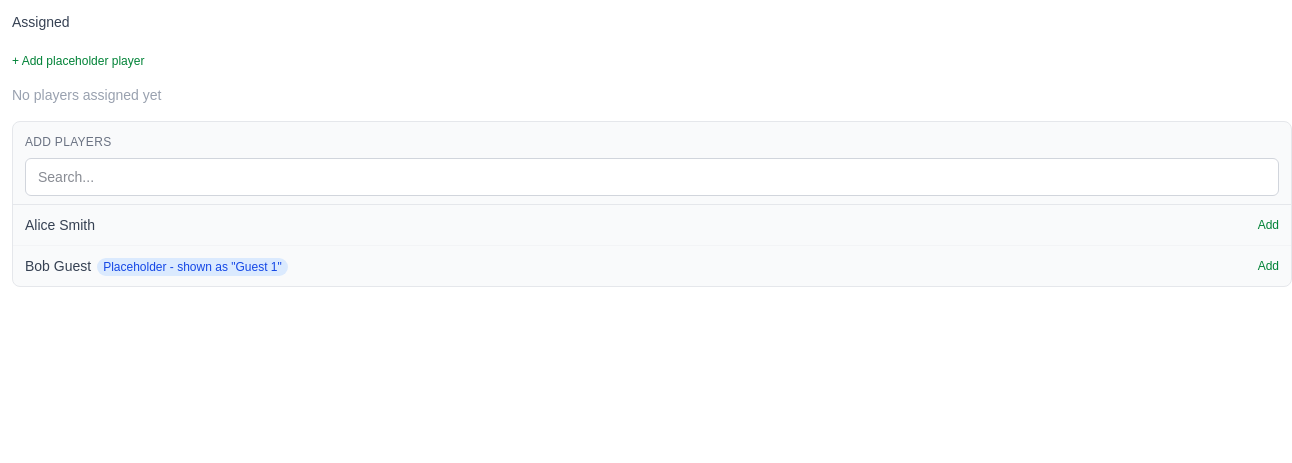
AssignPlayersPanel placeholders › pre-fills the alias with the next available numbered placeholder name
Expected: the text "Alice Smith" is shown, top-left (25, 215), bottom-right (95, 235)
Click the button "+ Add placeholder player": (78, 61) top-left (12, 53), bottom-right (144, 69)
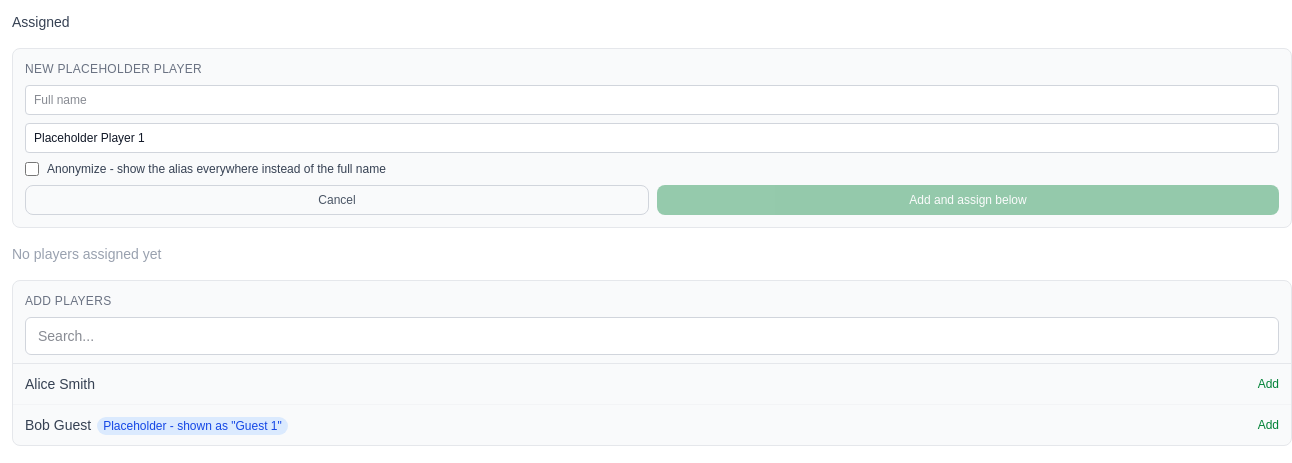
Now the field with placeholder "Alias (shown when anonymized)" holds "Placeholder Player 1", box top-left (25, 123), bottom-right (1279, 153)
